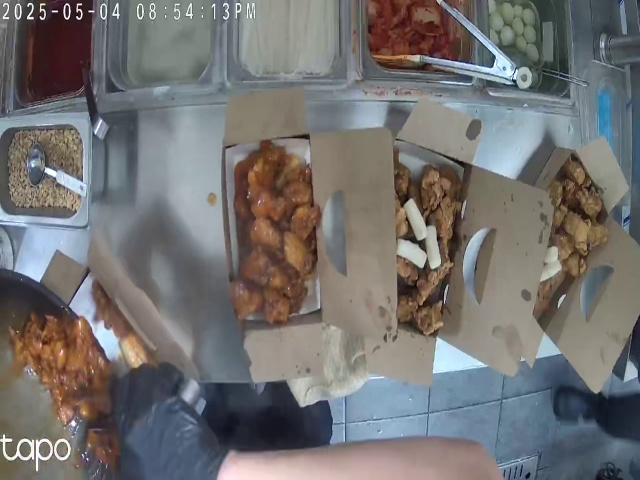delivery box: (216, 94, 390, 388), (396, 97, 531, 390), (38, 241, 199, 400), (537, 140, 635, 397), (21, 310, 114, 455)
food: (230, 146, 318, 328), (392, 154, 451, 324), (548, 162, 595, 306)
hand: (86, 367, 224, 463)
